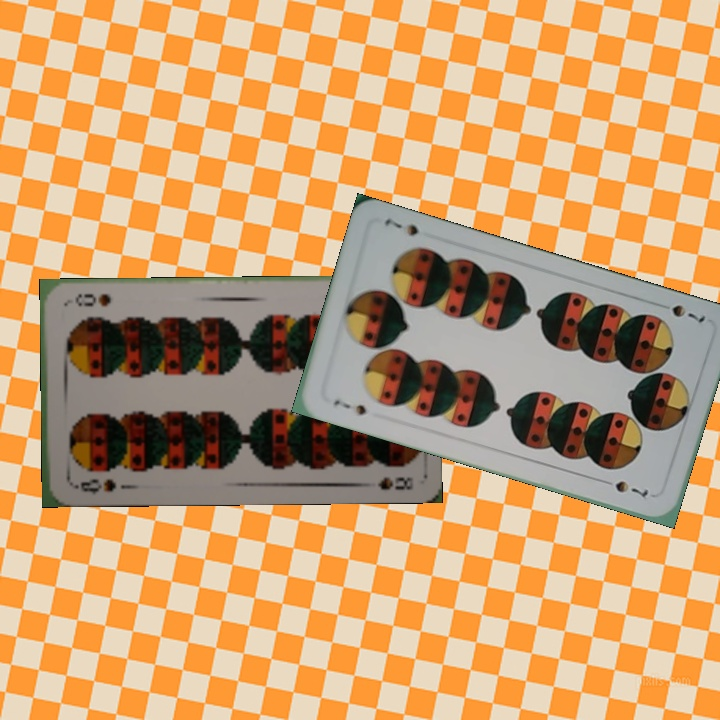S7: (667, 300, 708, 326), (329, 395, 369, 418)
S8: (66, 471, 119, 496)
